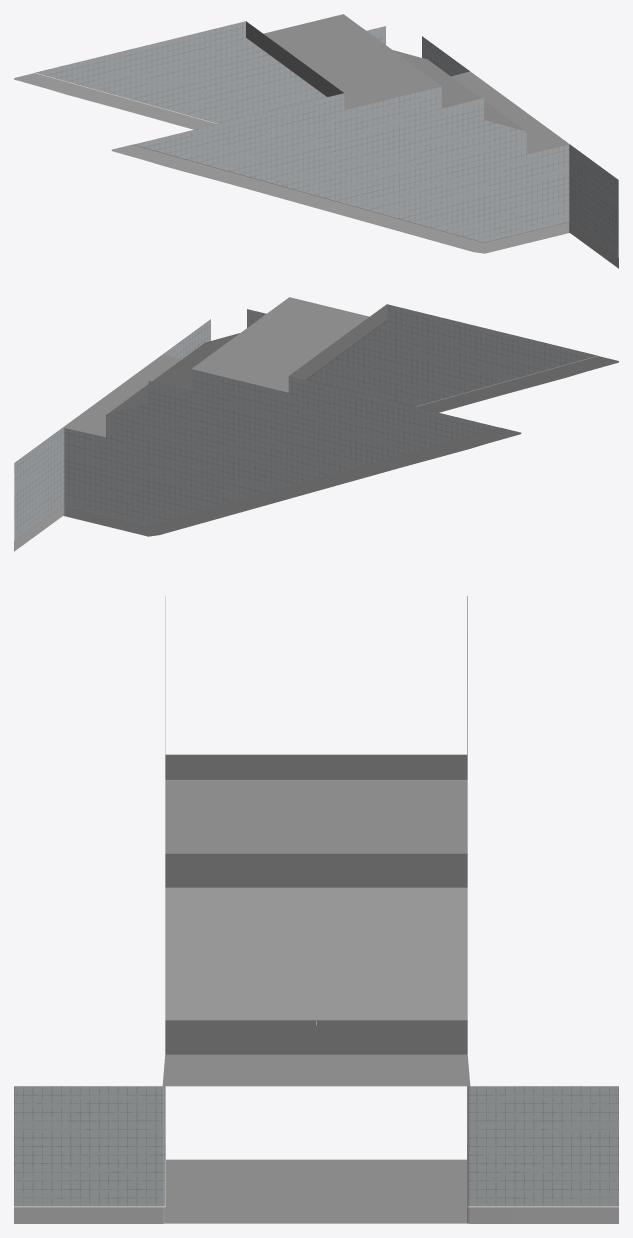
The model's file is subway_entrance_c.fbx.
The picture shows the model from 3 angles, top to bottom: view 1: azimuth 30°, elevation 25°; view 2: azimuth 150°, elevation 25°; view 3: azimuth 270°, elevation 25°; orthographic projection. The views are drawn at different scales.
Parts seen in each view (by area): view 1: subway_entrance_c; view 2: subway_entrance_c; view 3: subway_entrance_c.
Boxes of the visible parts, bbox=[...] form: subway_entrance_c: bbox=[14, 14, 618, 268]; subway_entrance_c: bbox=[14, 297, 618, 551]; subway_entrance_c: bbox=[14, 596, 618, 1223].
Bounding box in the file's own units: 2152 × 875 × 1600.
